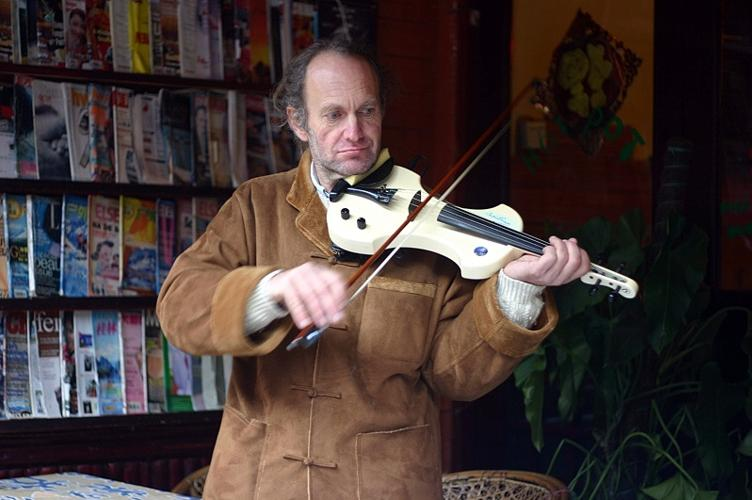person: (155, 37, 590, 500)
